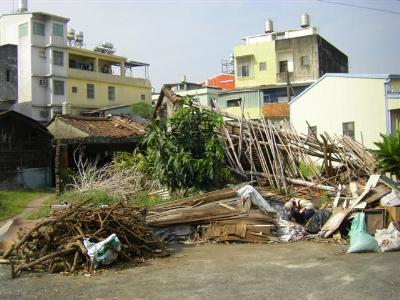plastic_bag: (235, 181, 305, 243), (343, 211, 380, 255), (373, 221, 400, 253)
